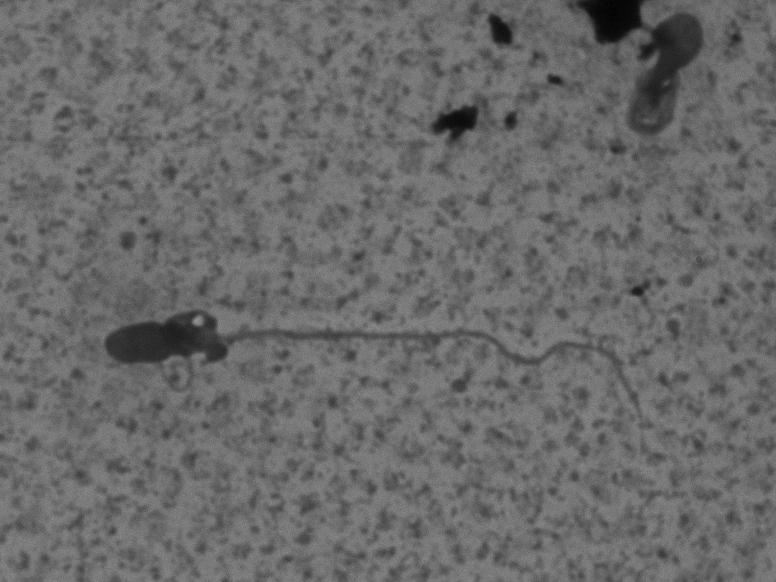Abnormal: (65, 289, 685, 425)
